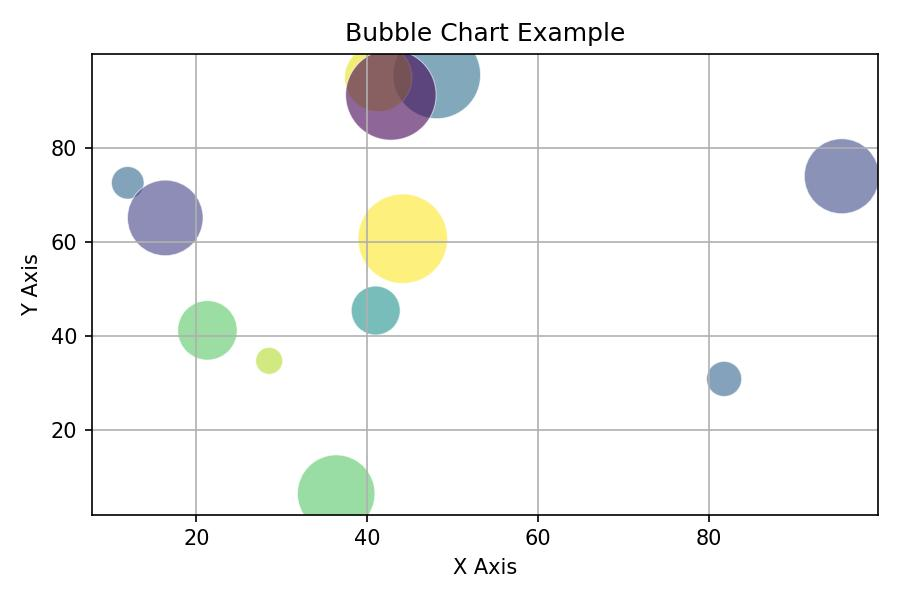axis: (85, 505, 886, 534), (74, 48, 104, 525)
circle: (355, 193, 452, 290), (352, 53, 435, 143), (127, 178, 205, 259), (803, 134, 878, 213), (399, 51, 484, 117), (177, 298, 240, 363), (349, 283, 403, 339), (705, 358, 744, 397), (109, 163, 146, 197), (254, 344, 285, 380)
